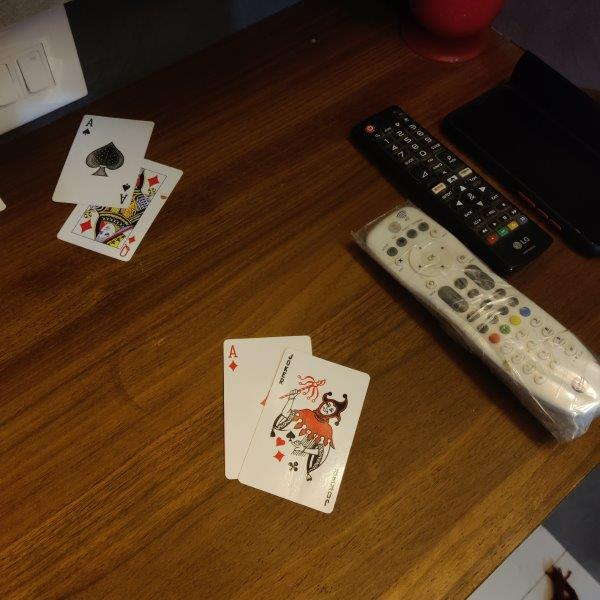Ace of Diamonds: (222, 335, 313, 480)
Ace of Spades: (52, 111, 154, 208)
Joker: (240, 348, 371, 514)
Queen of Diamonds: (57, 159, 185, 264)
